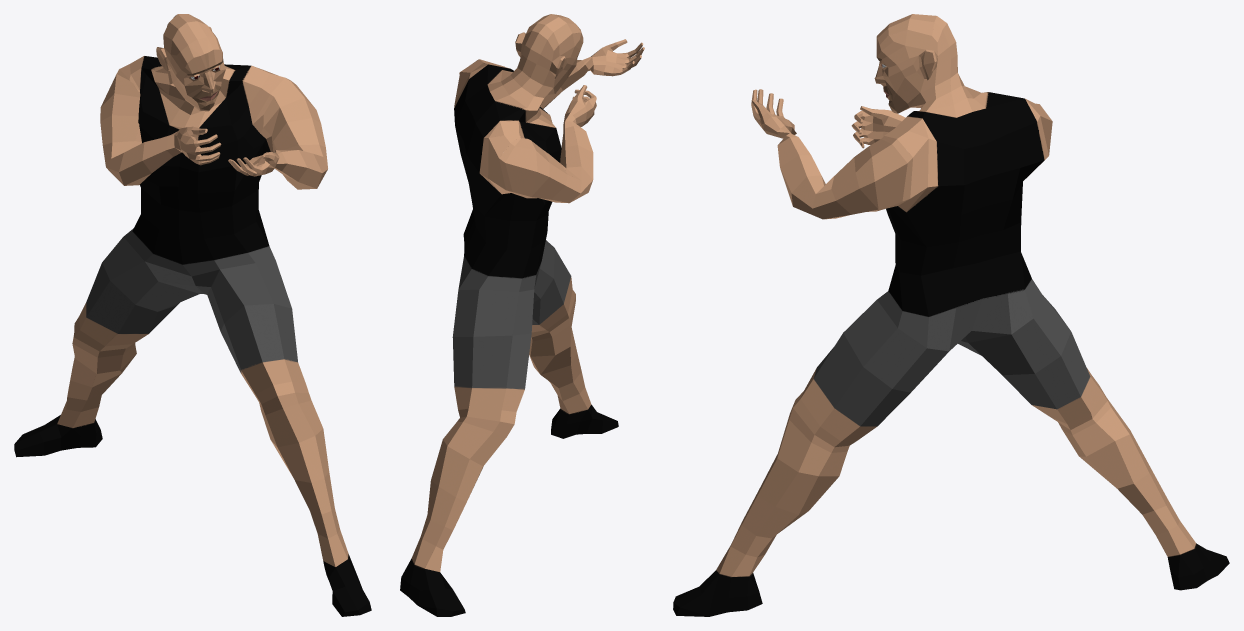
Rendered from PlayerShoot(8).obj.
3 renders of one model, left to right at view 1: azimuth 30°, elevation 25°; view 2: azimuth 150°, elevation 25°; view 3: azimuth 270°, elevation 25°, orthographic. The views are drawn at different scales.
Visible parts, largest first — view 1: Plane002; view 2: Plane002; view 3: Plane002.
Part boxes in pixels (<box>): Plane002: <box>14,14,371,616</box>; Plane002: <box>400,14,644,616</box>; Plane002: <box>673,14,1229,616</box>.
Size of the model in its own units: 536 by 1639 by 1469.
